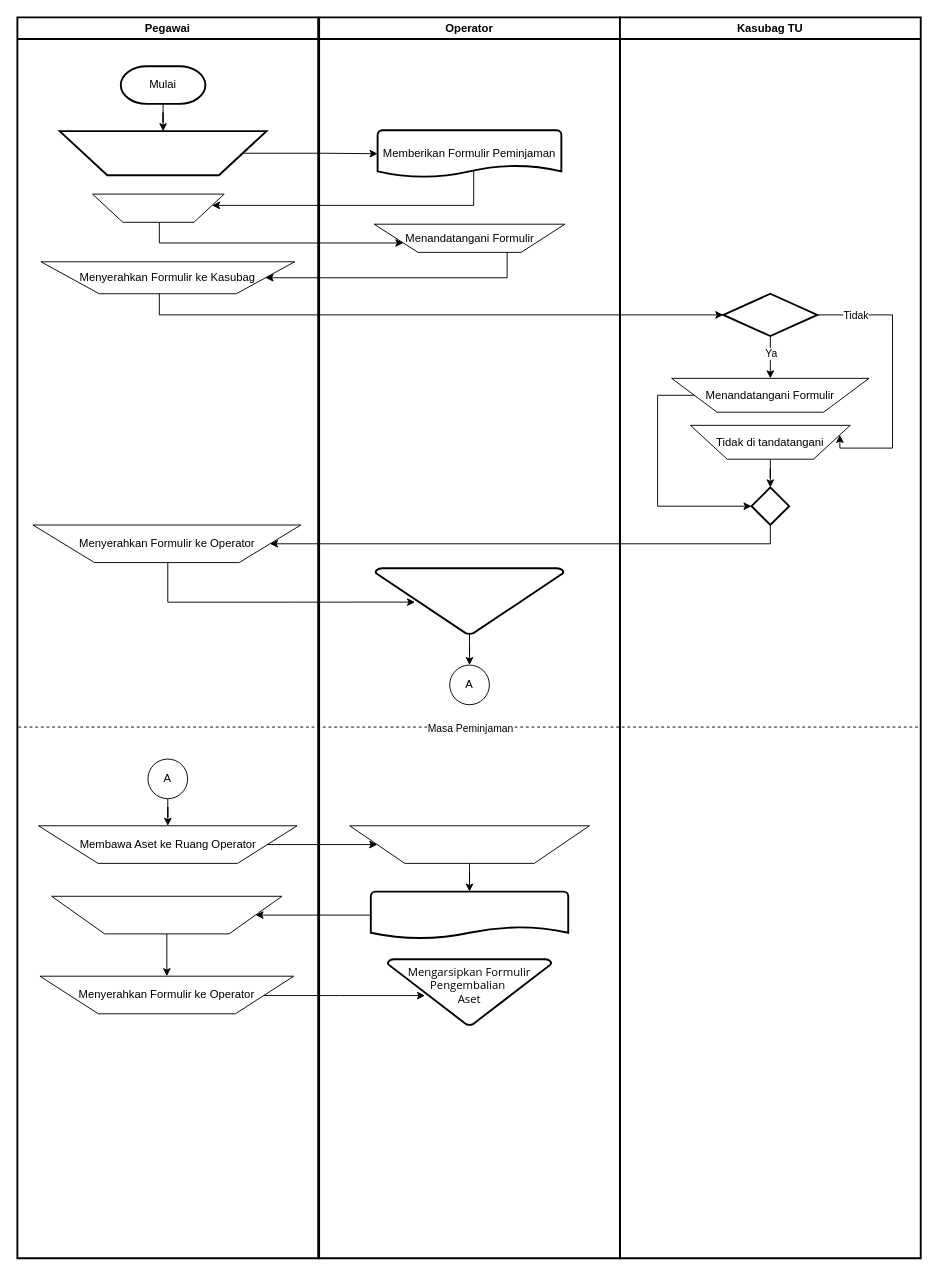
This 938x1275 diagram has some shape labels left out. The centre of each missing label's shape, as x and y in pixels:
"Disetujui?" goes at (x=770, y=314).
"Mengarsipkan Formulir Peminjaman" goes at (x=469, y=600).
"Mengecek dan Menerima Aset" goes at (x=469, y=844).
"Mengisi Formulir" goes at (x=158, y=207).
"Mengisi Formulir Pengembalian" goes at (x=166, y=914).
"Menyampaikan Pengajuan Peminjaman ke Operator" goes at (x=162, y=153).
"Menyerahkan Formulir Pengembalian" goes at (x=469, y=914).
